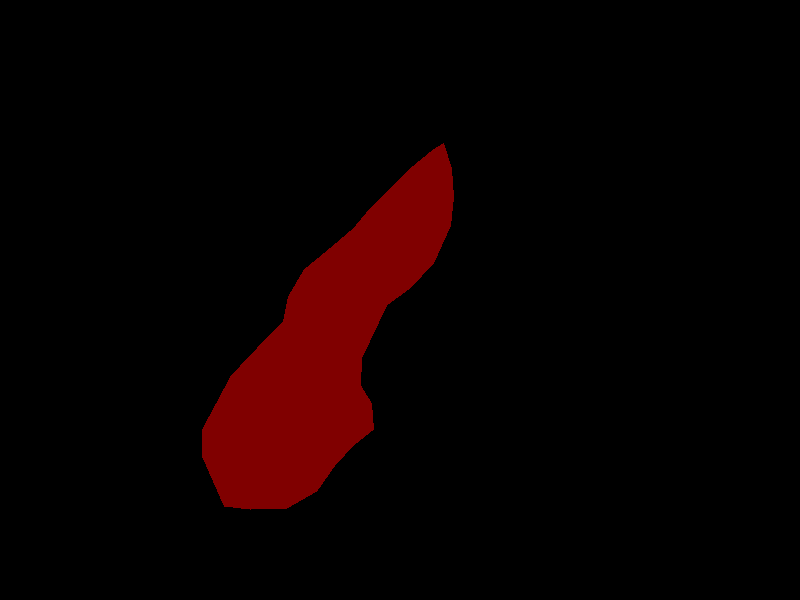fire: (202, 143, 453, 509)
